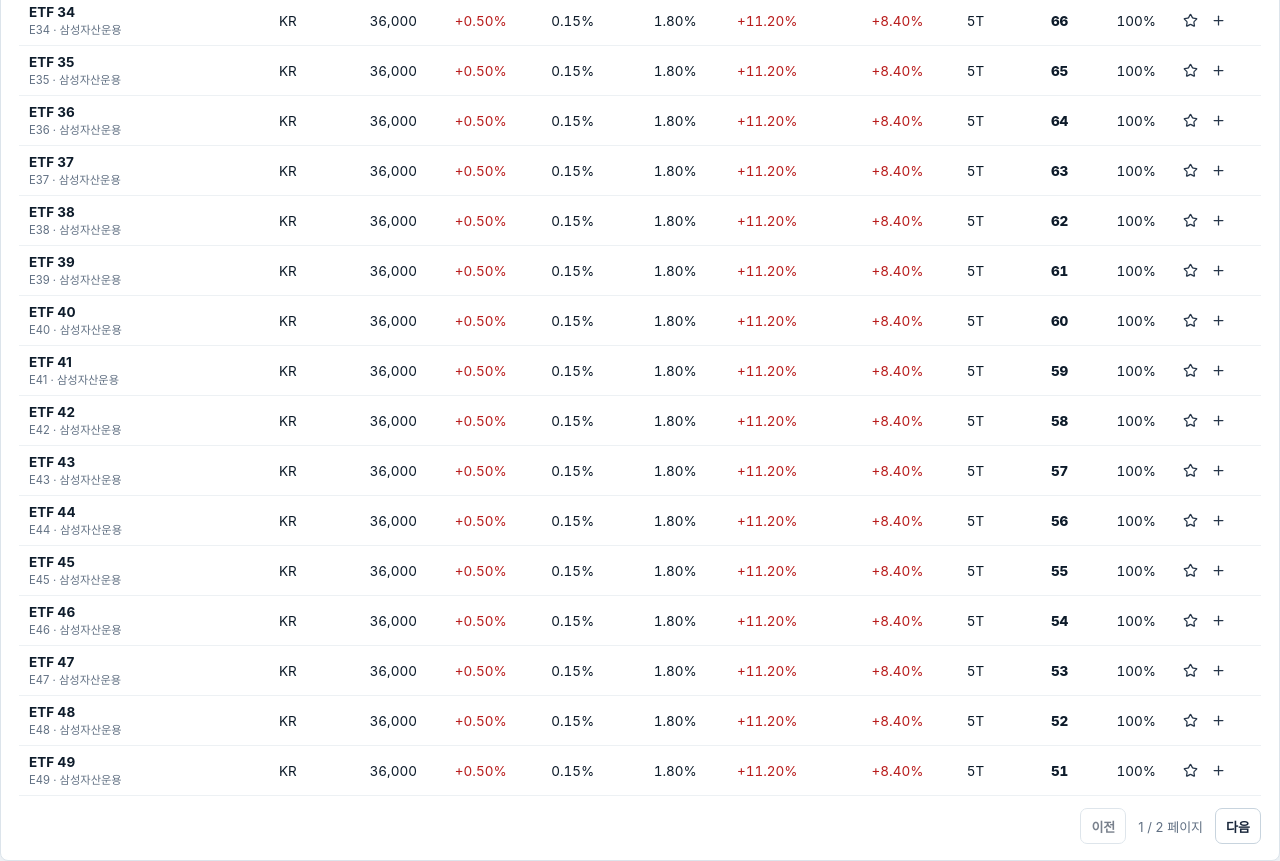
Test: EtfTable pagination › moves between pages with 다음 and 이전
(page scrolled)
What coordinates should you click on to do the following:
click the button "다음"
I would click on:
 (1238, 826)
Its box is [1215,808,1261,844].
(page scrolled)
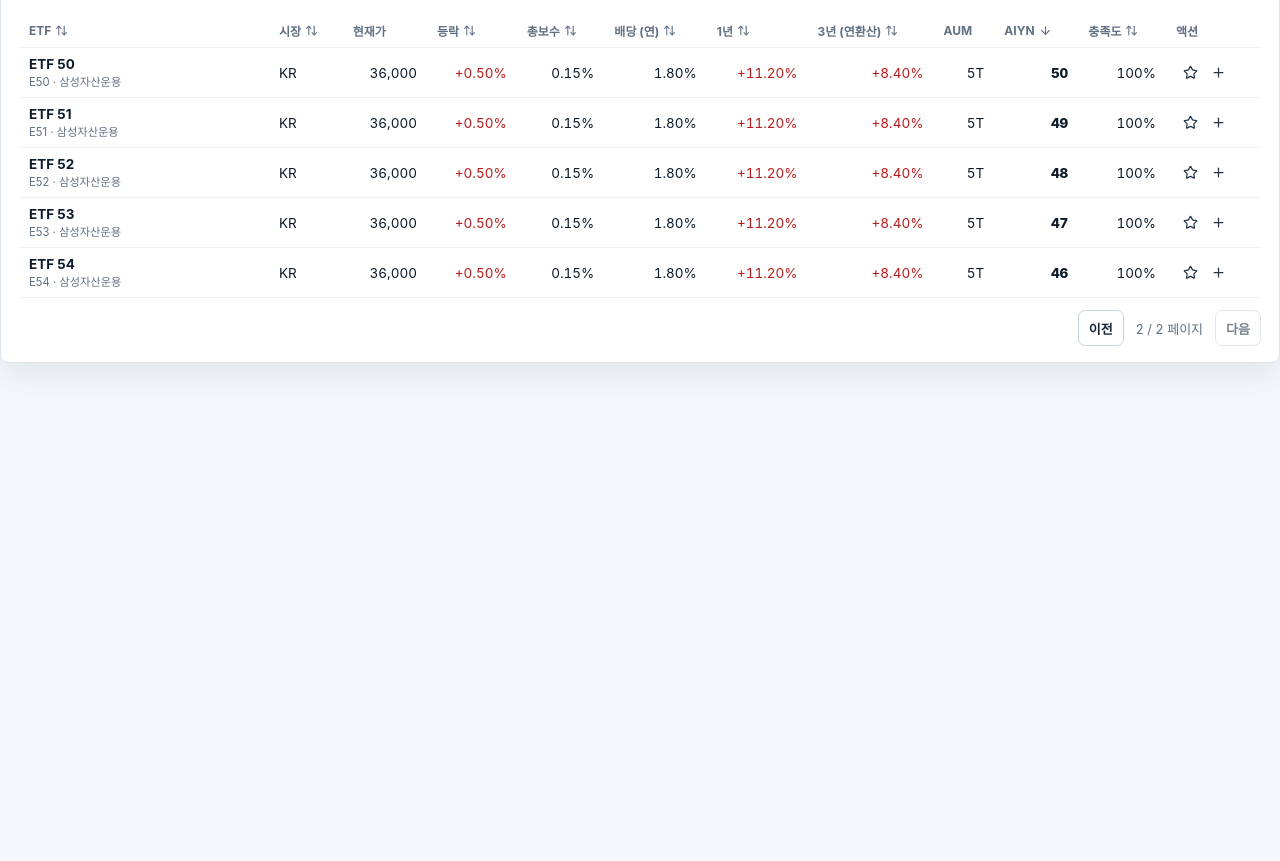
Expected: the text "2 / 2 페이지" is shown, [1136,318,1203,338]
Expected: the button "다음" is disabled, [1215,310,1261,346]
Expected: the button "이전" is enabled
What coordinates should you click on to do the following:
click the button "이전"
I would click on:
 (1101, 328)
Its box is [1078,310,1124,346].
(page scrolled)
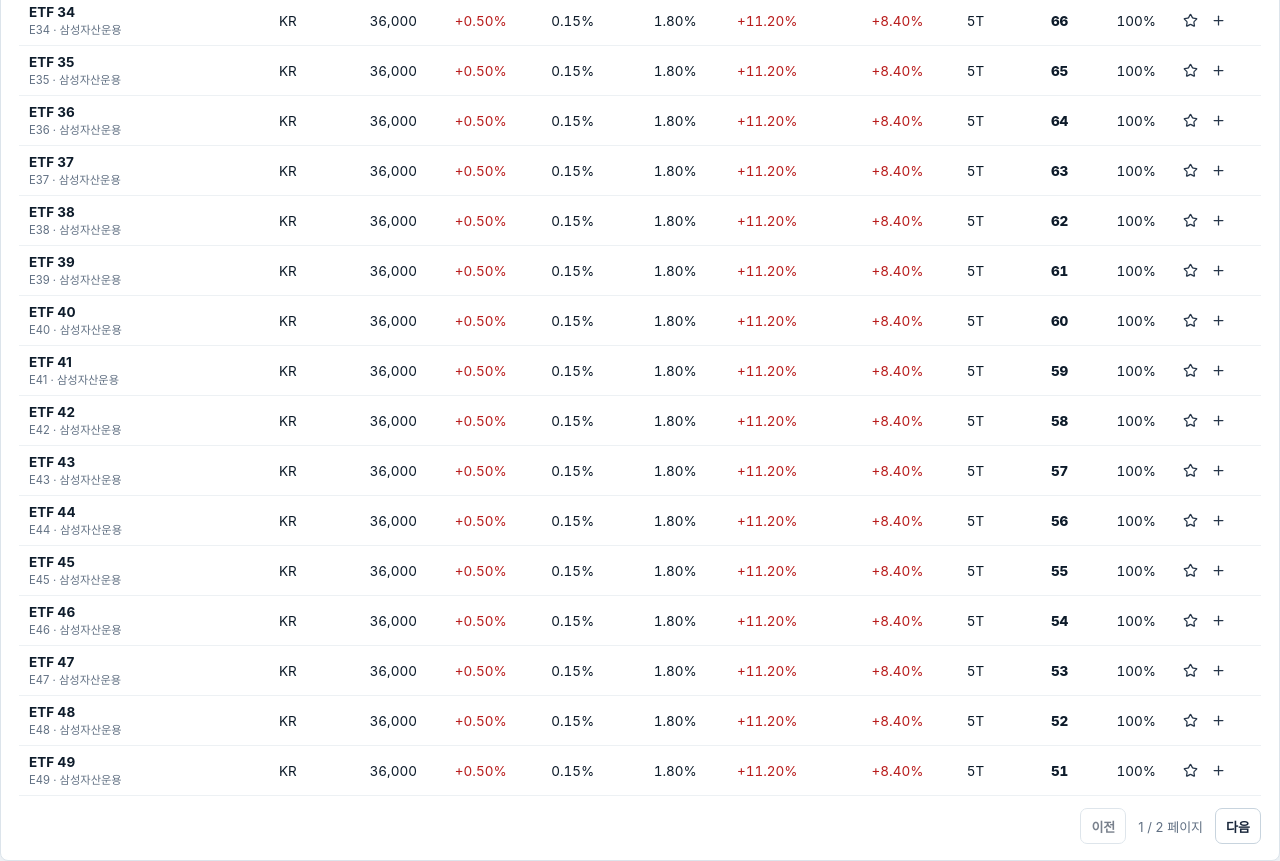
Expected: the text "1 / 2 페이지" is shown, [1138,816,1203,836]
